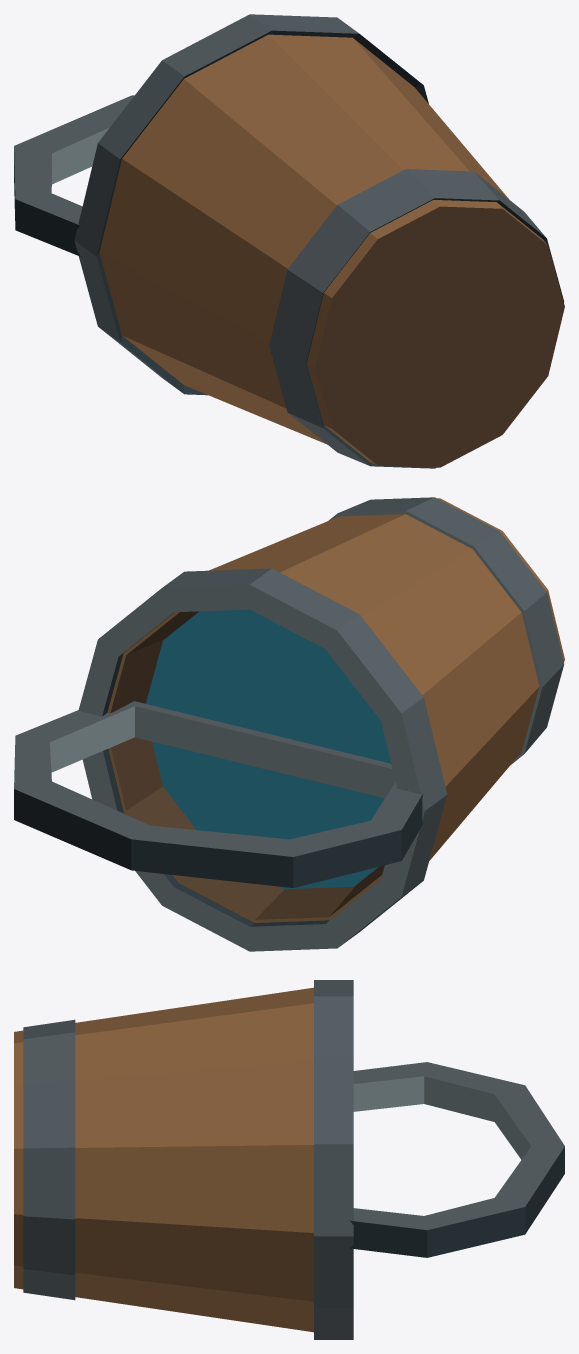
Rendered from bucket.fbx.
3 renders of one model, top to bottom at view 1: azimuth 30°, elevation 25°; view 2: azimuth 150°, elevation 25°; view 3: azimuth 270°, elevation 25°, orthographic. The views are drawn at different scales.
Visible parts, largest first — view 1: bucket; view 2: bucket; view 3: bucket.
Part boxes in pixels (bbox=[...]): bucket: bbox=[14, 14, 564, 468]; bucket: bbox=[14, 497, 564, 951]; bucket: bbox=[14, 980, 564, 1339].
Size of the model in its own units: 1.3 by 1.18 by 1.8.
Materials: 1 (1 with a texture image).
